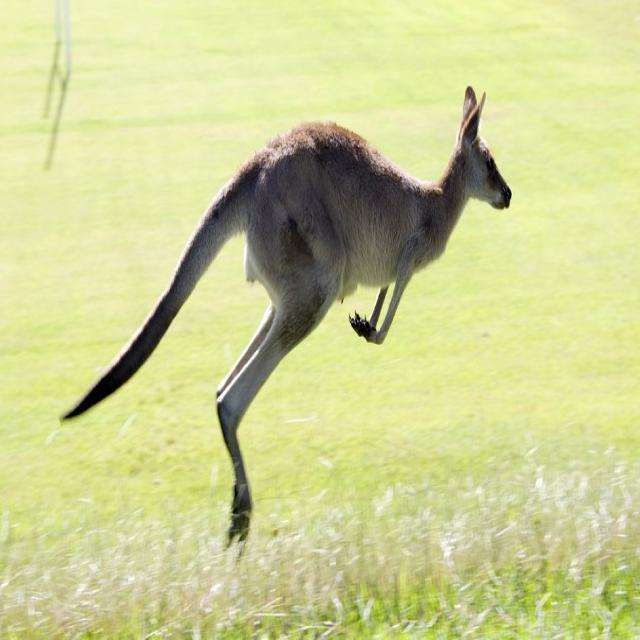Kangaroo: (57, 59, 521, 561)
